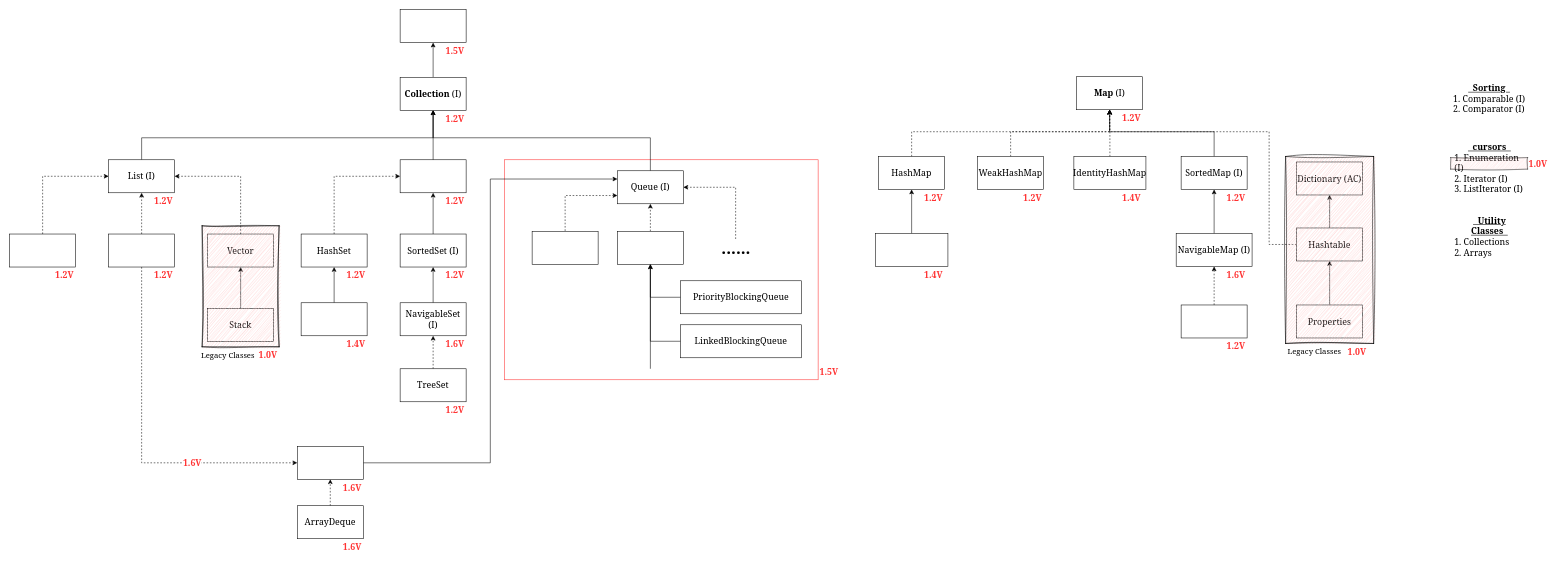
This 1559x565 diagram has some shape labels left out. Here are the shapes that lost their labels. From the top down, the centre of each, then its label:
the point at 433,26: Iterable (I)
the point at 433,176: Set (I)
the point at 42,250: ArrayList
the point at 141,250: LinkedList
the point at 565,247: PriorityQueue
the point at 650,247: BlockingQueue
the point at 911,249: LinkedHashMap
the point at 334,319: LinkedHashSet
the point at 1214,321: TreeMap
the point at 330,462: Deque (I)
